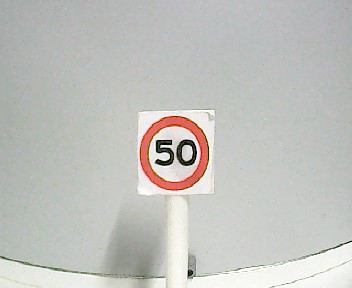50-bord: (139, 115, 210, 192)
